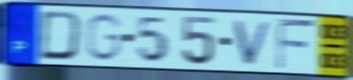5: (181, 15, 217, 67), (135, 15, 172, 63)
D: (37, 9, 85, 63)
F: (274, 16, 319, 72)
G: (83, 12, 125, 63)
V: (231, 19, 275, 67)
